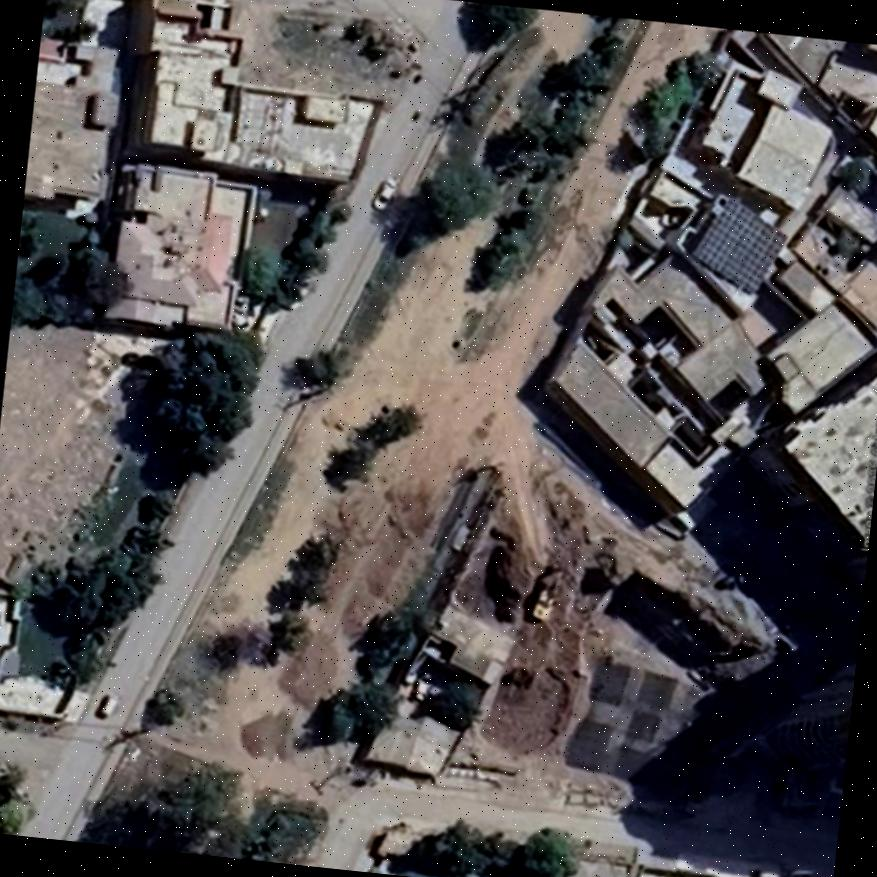Solarpanel: (692, 198, 783, 293)
